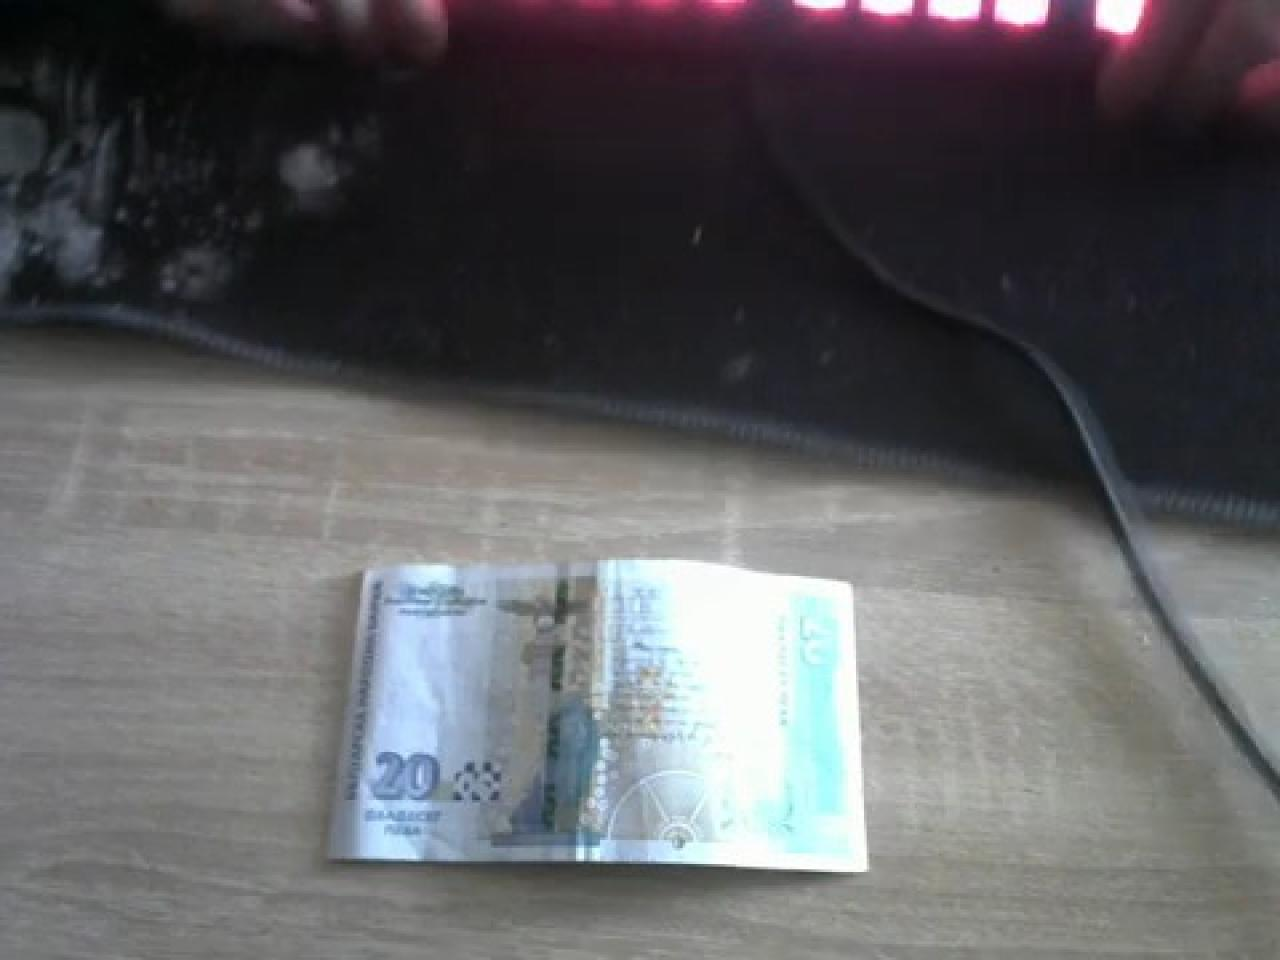20leva: (323, 555, 869, 874)
